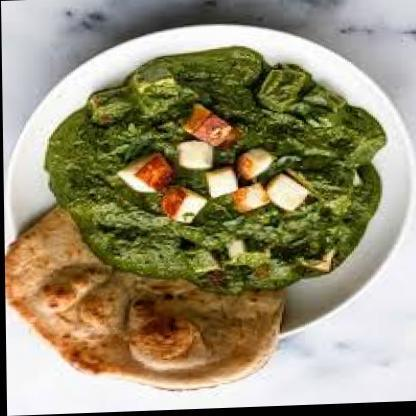palak_paneer: (42, 42, 389, 300)
